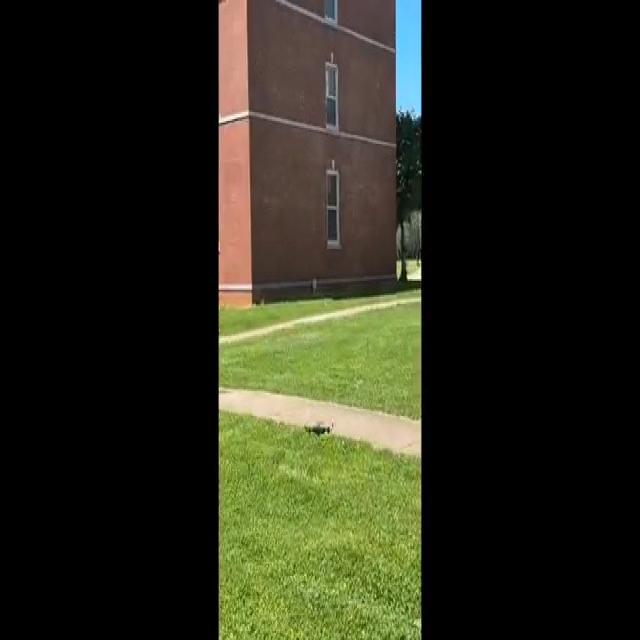drone: (301, 414, 338, 442)
